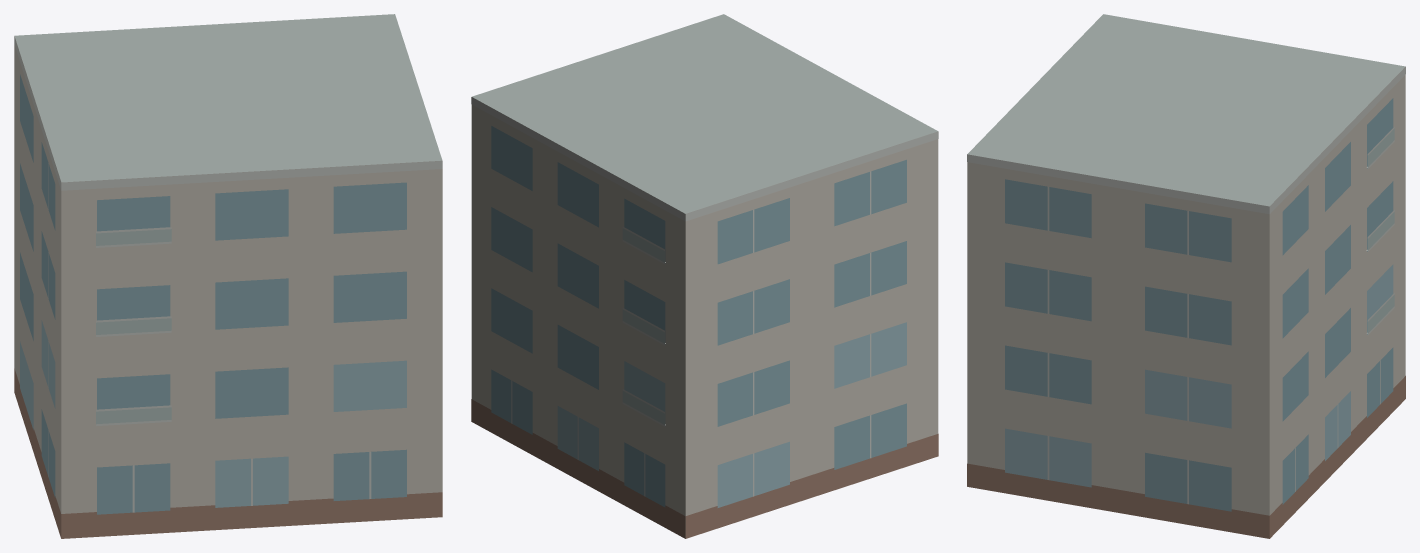
File: survey-upis-32661922.glb
The picture shows the model from 3 angles, left to right: view 1: azimuth 30°, elevation 25°; view 2: azimuth 150°, elevation 25°; view 3: azimuth 270°, elevation 25°; orthographic projection. The views are drawn at different scales.
Visible parts, largest first — view 1: survey-upis-32661922.tmp; view 2: survey-upis-32661922.tmp; view 3: survey-upis-32661922.tmp.
Boxes of the visible parts, left/top/right/bottom form: survey-upis-32661922.tmp: left=14, top=14, right=442, bottom=538; survey-upis-32661922.tmp: left=471, top=14, right=938, bottom=538; survey-upis-32661922.tmp: left=967, top=14, right=1405, bottom=538.
Size of the model in its own units: 12.92 by 10.4 by 12.45.
